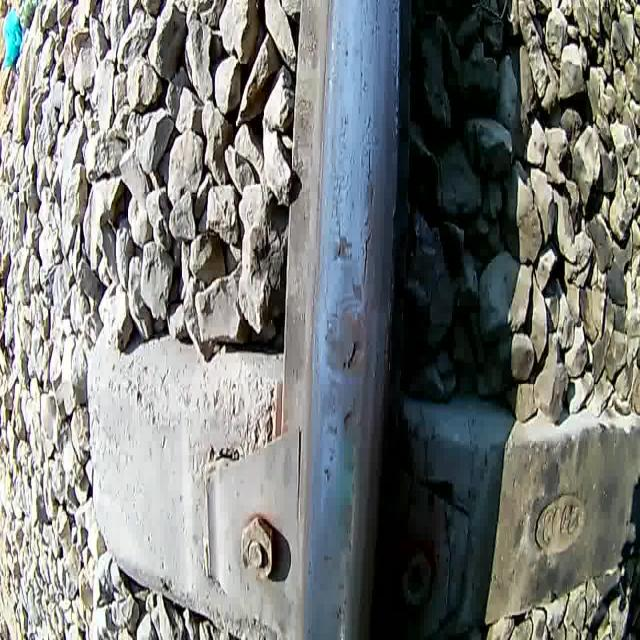Cracks: (359, 120, 378, 292), (333, 183, 343, 261)
Spallings: (336, 330, 362, 378)
Squats: (318, 277, 374, 492), (354, 165, 400, 321), (329, 226, 357, 270)
